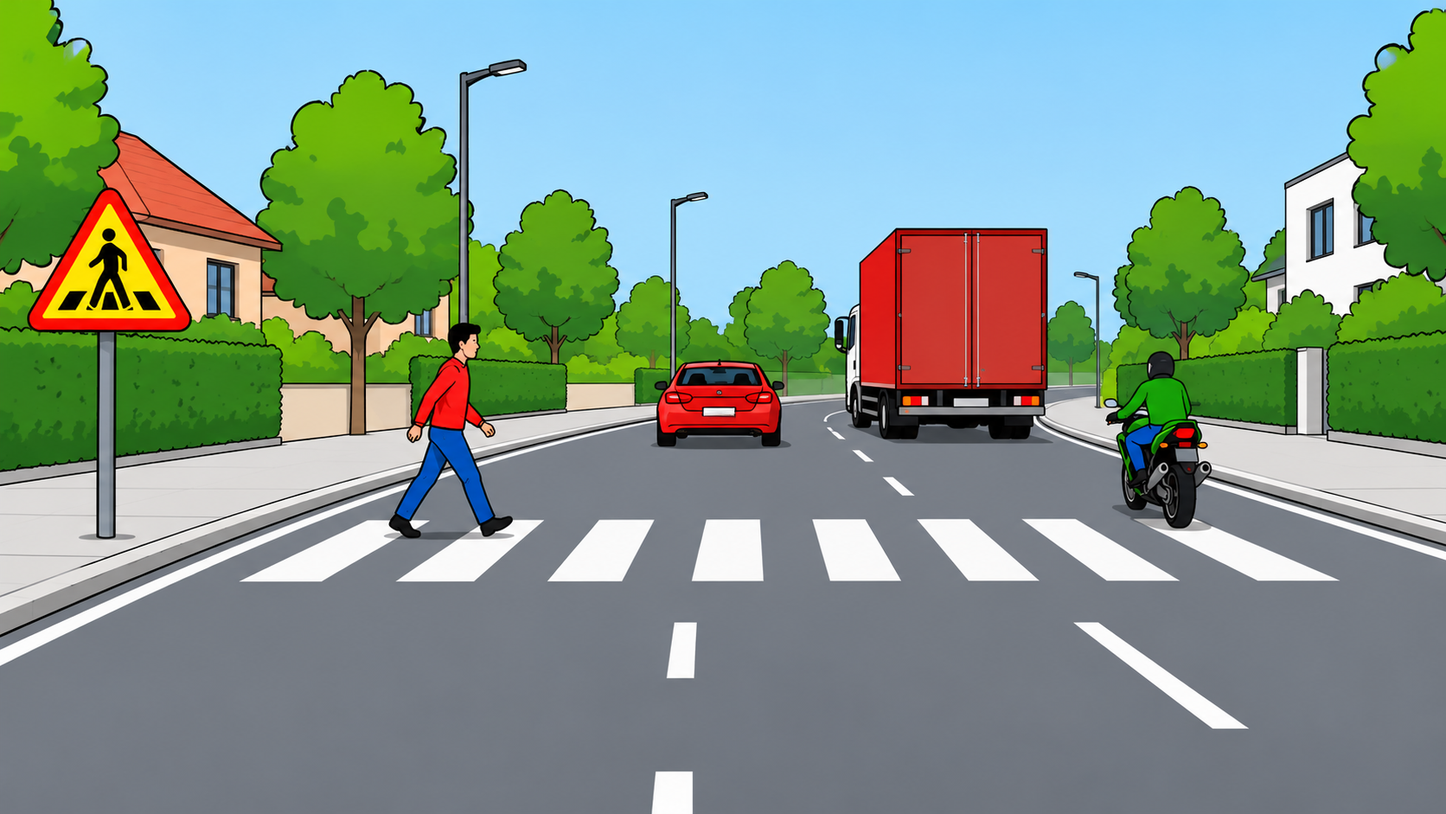car: (653, 356, 790, 452)
crossing_warning_sign: (25, 186, 195, 334)
motorcycle: (1100, 389, 1224, 537)
person: (382, 324, 518, 545), (1104, 351, 1203, 497)
truck: (833, 225, 1057, 445)
zebra_crossing: (194, 514, 1345, 587)
